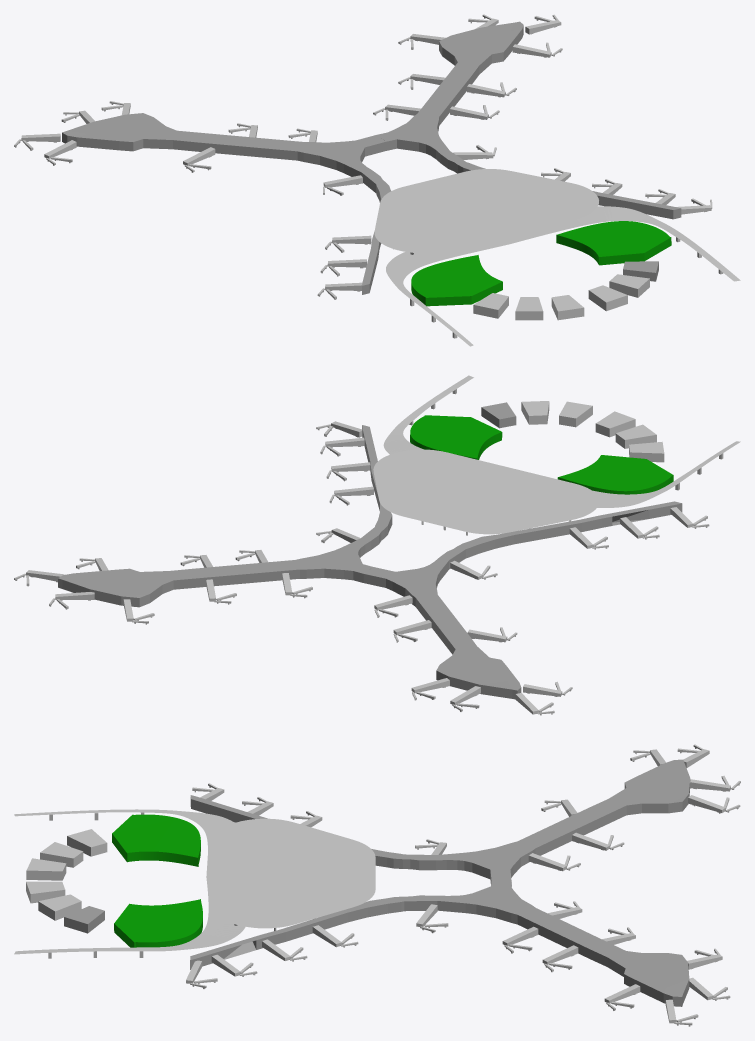
File: ter3.obj
3 renders of one model, top to bottom at view 1: azimuth 30°, elevation 25°; view 2: azimuth 150°, elevation 25°; view 3: azimuth 270°, elevation 25°, orthographic. The views are drawn at different scales.
Parts seen in each view (by area): view 1: object_28, Cube.006_Cube.009, Cube.000, Cylinder.003_Cylinder.016, Plane.001, Plane, Cube_Cube.001, Cube.001_Cube.002, Cube.005_Cube.006, Cube.003_Cube.004, Cube.004_Cube.005, Cube.002_Cube.003; view 2: object_28, Cube.006_Cube.009, Cube.000, Plane, Plane.001, Cylinder.003_Cylinder.016, Cube.003_Cube.004, Cube.002_Cube.003, Cube.004_Cube.005, Cube_Cube.001, Cube.001_Cube.002, Cube.005_Cube.006; view 3: object_28, Cube.000, Cube.006_Cube.009, Plane, Cylinder.003_Cylinder.016, Plane.001, Cube.001_Cube.002, Cube.003_Cube.004, Cube.002_Cube.003, Cube.005_Cube.006, Cube.004_Cube.005, Cube_Cube.001.
Part boxes in pixels (x1,y1,x2,y2): object_28: (374, 169, 598, 253); Cube.006_Cube.009: (62, 113, 390, 294); Cube.000: (377, 21, 681, 219); Cylinder.003_Cylinder.016: (386, 206, 740, 346); Plane.001: (556, 221, 671, 265); Plane: (411, 255, 502, 306); Cube_Cube.001: (588, 285, 627, 311); Cube.001_Cube.002: (609, 274, 649, 297); Cube.005_Cube.006: (473, 293, 508, 318); Cube.003_Cube.004: (551, 295, 584, 320); Cube.004_Cube.005: (515, 297, 543, 320); Cube.002_Cube.003: (623, 261, 658, 281); object_28: (373, 449, 599, 534); Cube.006_Cube.009: (363, 501, 682, 699); Cube.000: (58, 425, 392, 607); Plane: (557, 455, 673, 494); Plane.001: (410, 415, 502, 459); Cylinder.003_Cylinder.016: (383, 375, 740, 507); Cube.003_Cube.004: (595, 411, 635, 437); Cube.002_Cube.003: (481, 402, 516, 428); Cube.004_Cube.005: (615, 424, 656, 448); Cube_Cube.001: (559, 401, 592, 427); Cube.001_Cube.002: (521, 401, 549, 424); Cube.005_Cube.006: (629, 441, 664, 462); object_28: (213, 818, 375, 928); Cube.000: (190, 881, 689, 1006); Cube.006_Cube.009: (190, 759, 690, 883); Plane: (112, 814, 200, 866); Cylinder.003_Cylinder.016: (14, 809, 245, 954); Plane.001: (114, 899, 202, 947); Cube.001_Cube.002: (38, 894, 81, 920); Cube.003_Cube.004: (26, 858, 66, 880); Cube.002_Cube.003: (64, 906, 104, 933); Cube.005_Cube.006: (67, 829, 107, 856); Cube.004_Cube.005: (40, 842, 83, 867); Cube_Cube.001: (26, 881, 65, 903).
Bounding box in the file's own units: 1664 × 43.07 × 1831.
